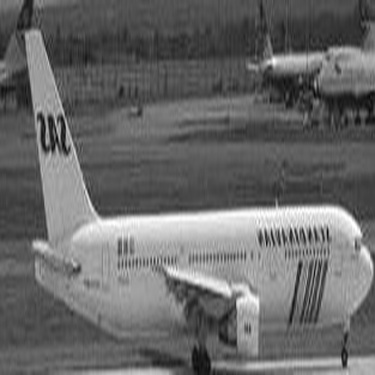airplane: (17, 19, 373, 374), (243, 1, 371, 88), (303, 1, 370, 114), (3, 2, 56, 106)
